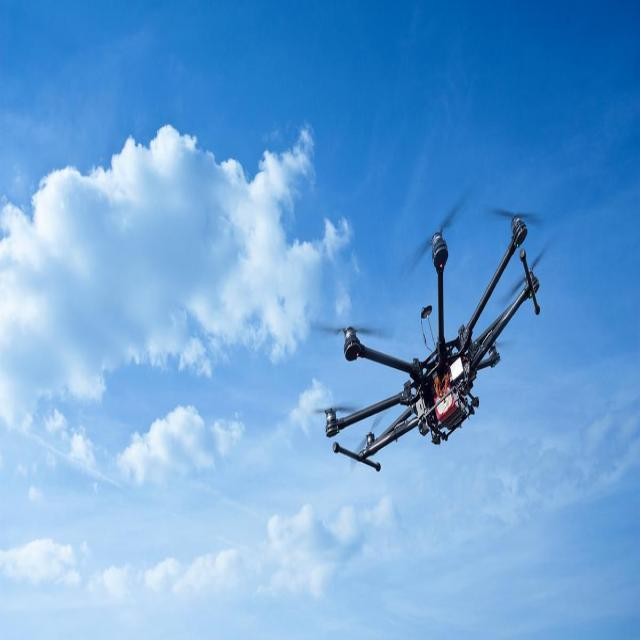drone: (312, 207, 544, 474)
